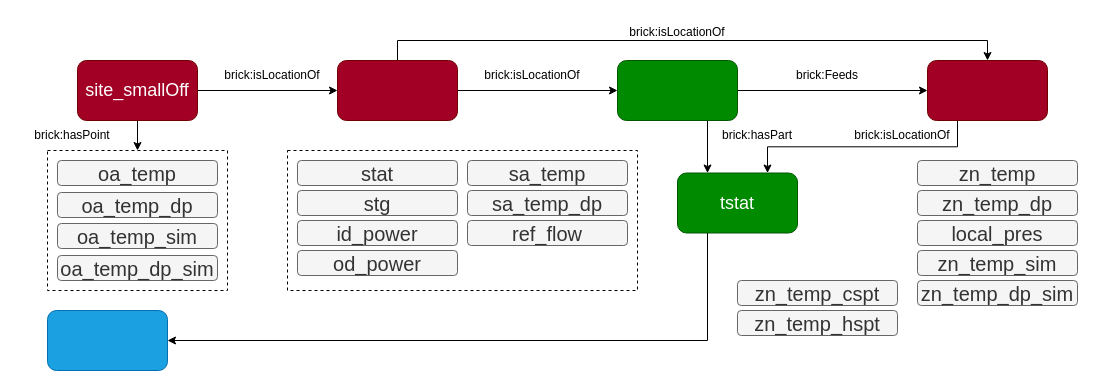
This 1095x388 diagram has some shape labels left out. The centre of each missing label's shape, as x and y in pixels:
"ASHP" belongs at (x=677, y=90).
"bldg_smallOff" belongs at (x=397, y=90).
"occ##" belongs at (x=107, y=340).
"zn" belongs at (x=987, y=90).
